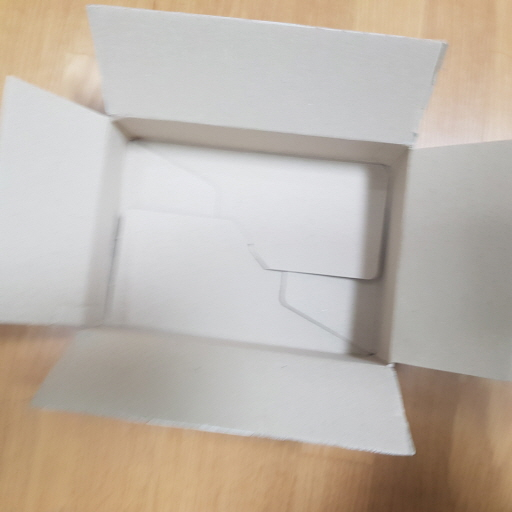Paper_0: (1, 4, 512, 458)
